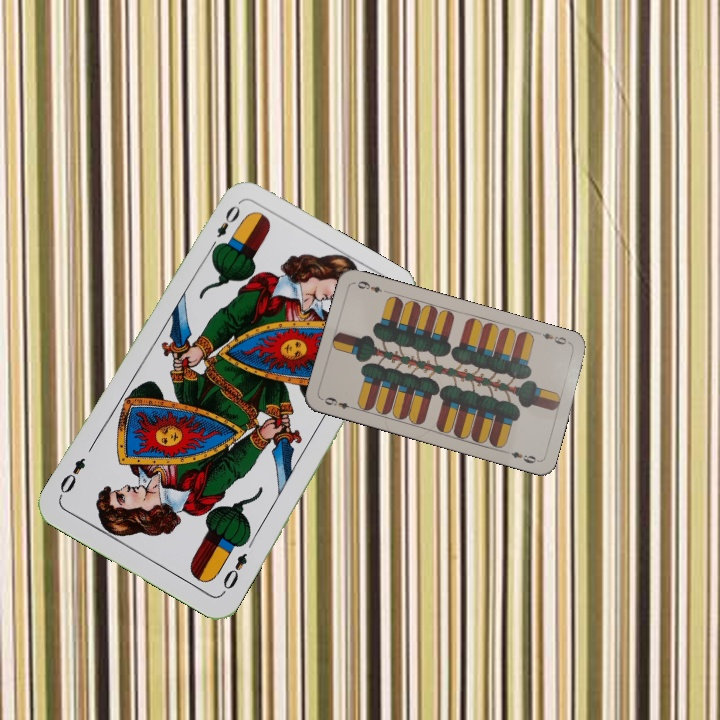E9: (319, 393, 359, 412), (534, 328, 573, 347)
EO: (205, 201, 243, 254), (218, 549, 250, 597)
